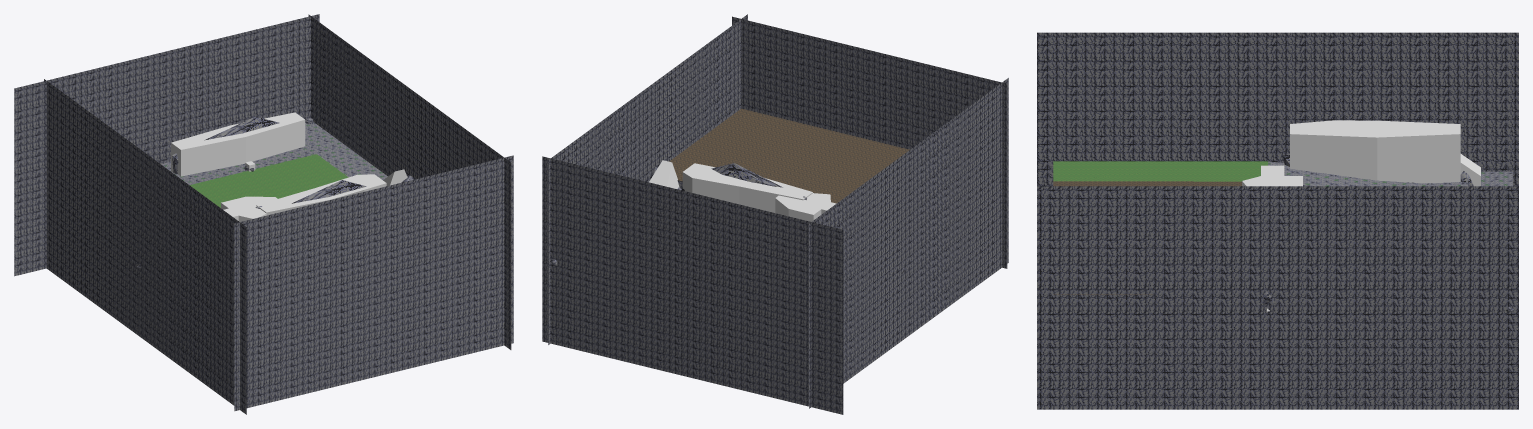
File: Mapa1Jam.glb
3 renders of one model, left to right at view 1: azimuth 30°, elevation 25°; view 2: azimuth 150°, elevation 25°; view 3: azimuth 270°, elevation 25°, orthographic. The views are drawn at different scales.
Parts seen in each view (by area): view 1: Pared_col.004, Pared_col.002, Pared_col.001, Pared_col.003, Cubo_col, ParqueArbol_col, Parque_col, Cubo_col.002, Cubo_col.006, Piedra.009, Piedra.015; view 2: Pared_col.001, Pared_col.002, Pared_col.004, Pared_col.003, Entrada_col, Cubo_col.002, Cubo_col.006, Piedra.015, Cubo_col.011; view 3: Pared_col.003, Pared_col.002, Cubo_col.001, Entrada_col, Parque_col, Cubo_col.006, Camino_col.
Part boxes in pixels (left/top/right/bottom): Pared_col.004: left=234, top=155, right=513, bottom=411; Pared_col.002: left=44, top=79, right=246, bottom=414; Pared_col.001: left=14, top=14, right=319, bottom=276; Pared_col.003: left=308, top=14, right=511, bottom=349; Cubo_col: left=171, top=112, right=305, bottom=176; ParqueArbol_col: left=189, top=154, right=348, bottom=207; Parque_col: left=172, top=122, right=387, bottom=184; Cubo_col.002: left=256, top=174, right=386, bottom=215; Cubo_col.006: left=221, top=196, right=277, bottom=221; Piedra.009: left=172, top=116, right=279, bottom=173; Piedra.015: left=292, top=180, right=366, bottom=203; Pared_col.001: left=542, top=156, right=843, bottom=414; Pared_col.002: left=809, top=78, right=1008, bottom=408; Pared_col.004: left=732, top=16, right=1007, bottom=268; Pared_col.003: left=548, top=14, right=747, bottom=344; Entrada_col: left=669, top=108, right=909, bottom=203; Cubo_col.002: left=682, top=163, right=812, bottom=212; Cubo_col.006: left=775, top=193, right=836, bottom=221; Piedra.015: left=711, top=163, right=782, bottom=187; Cubo_col.011: left=649, top=160, right=679, bottom=188; Pared_col.003: left=1037, top=186, right=1518, bottom=409; Pared_col.002: left=1037, top=32, right=1518, bottom=186; Cubo_col.001: left=1290, top=120, right=1460, bottom=183; Entrada_col: left=1053, top=161, right=1267, bottom=294; Parque_col: left=1268, top=161, right=1468, bottom=186; Cubo_col.006: left=1242, top=165, right=1302, bottom=186; Camino_col: left=1481, top=171, right=1512, bottom=186.
Bounding box in the file's own units: 19.78 × 11.59 × 22.67.
Materials: 7 (7 with a texture image).
